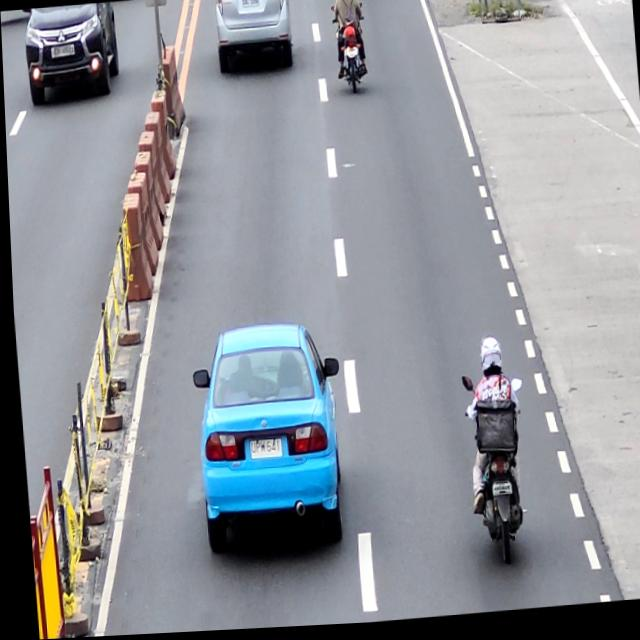Car: (184, 320, 348, 562), (212, 0, 295, 78)
License-Plate: (243, 440, 278, 463), (486, 485, 507, 503), (241, 0, 259, 10), (344, 49, 357, 60)
Motorcycle: (457, 372, 531, 574), (331, 0, 369, 100)
